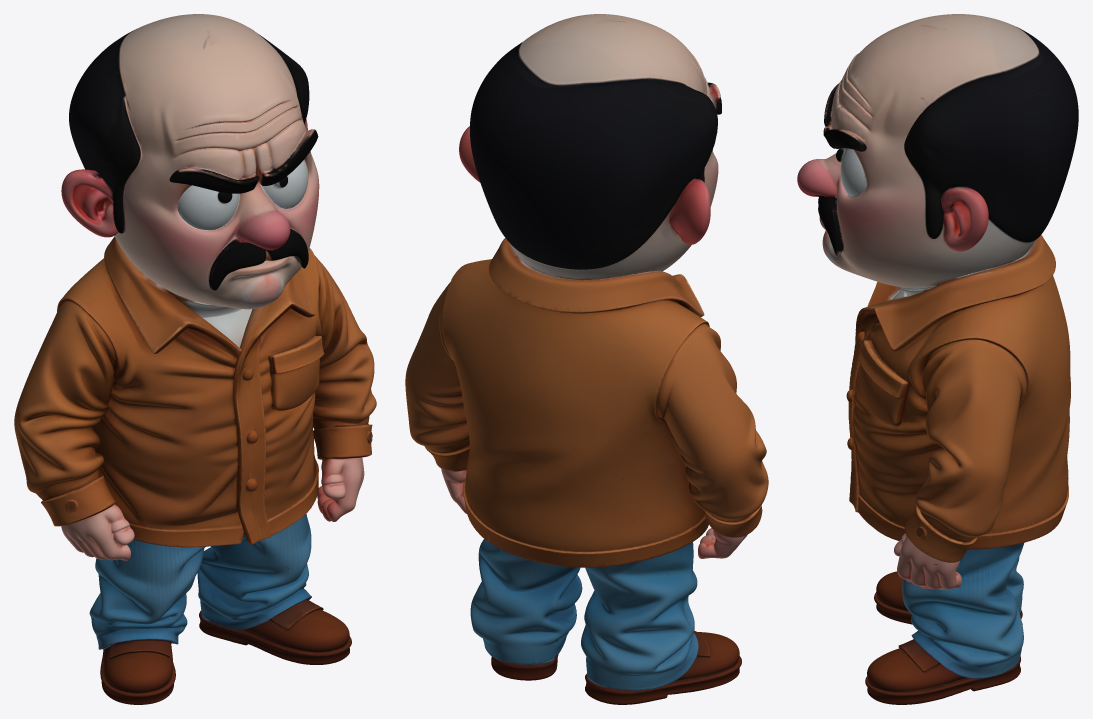
The model's file is angry.glb.
The picture shows the model from 3 angles, left to right: view 1: azimuth 30°, elevation 25°; view 2: azimuth 150°, elevation 25°; view 3: azimuth 270°, elevation 25°; orthographic projection. The views are drawn at different scales.
Parts seen in each view (by area): view 1: texture_pbr_v128; view 2: texture_pbr_v128; view 3: texture_pbr_v128.
Part boxes in pixels (x1,y1,x2,y2): texture_pbr_v128: [14, 14, 376, 704]; texture_pbr_v128: [405, 14, 768, 704]; texture_pbr_v128: [797, 14, 1078, 704].
Size of the model in its own units: 0.6378 by 1.11 by 0.4566.
1 material, 1 textured.
